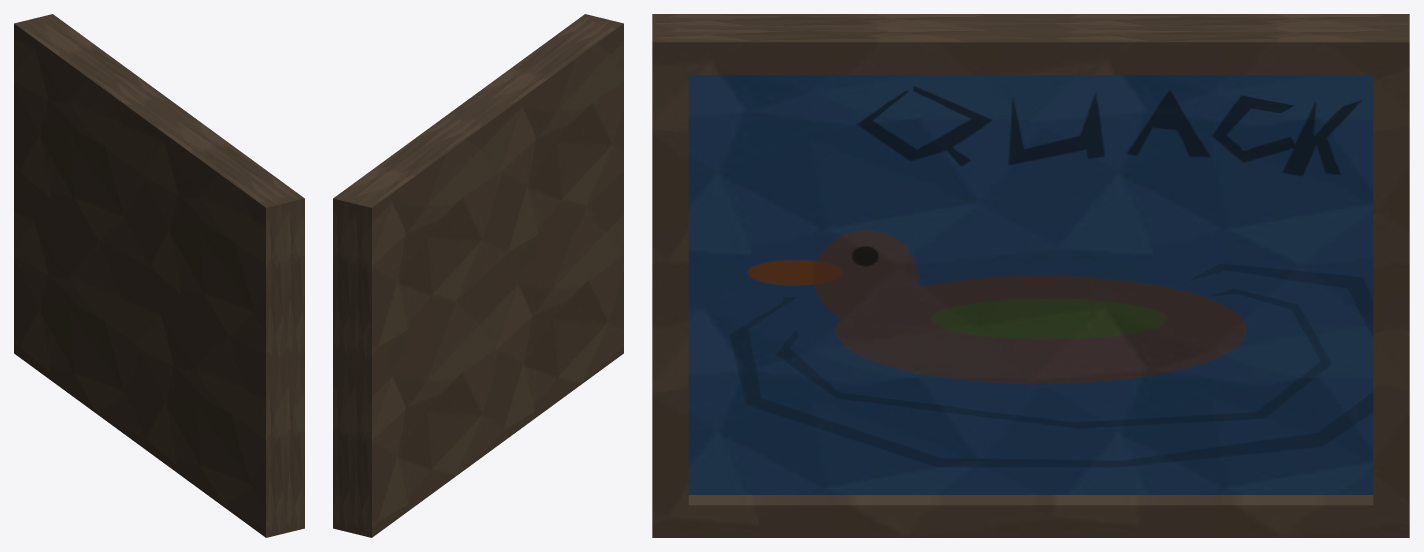
The model's file is painting3.fbx.
3 renders of one model, left to right at view 1: azimuth 30°, elevation 25°; view 2: azimuth 150°, elevation 25°; view 3: azimuth 270°, elevation 25°, orthographic. The views are drawn at different scales.
Visible parts, largest first — view 1: Cube; view 2: Cube; view 3: Cube.
Part boxes in pixels (x1,y1,x2,y2): Cube: (14,14,304,537); Cube: (333,14,623,537); Cube: (652,14,1409,537).
Bounding box in the file's own units: 8 × 65 × 90.
1 material, 1 textured.
